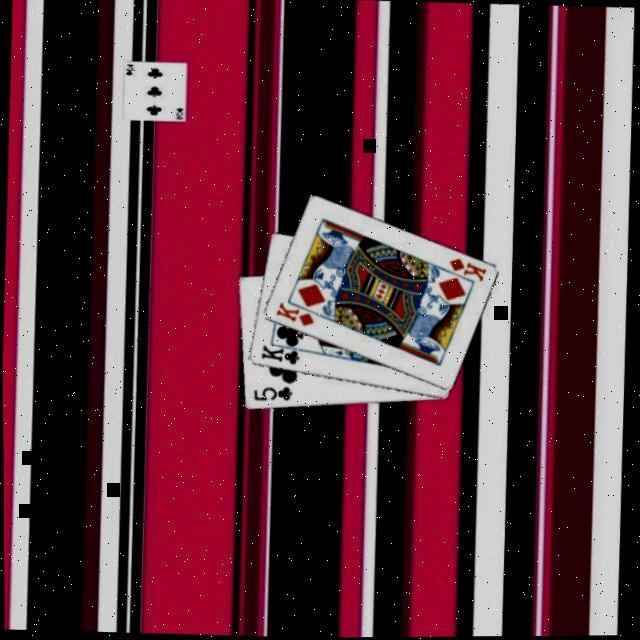5C: (248, 381, 292, 402)
KC: (255, 338, 304, 366)
KD: (270, 296, 314, 328), (442, 254, 487, 282)
